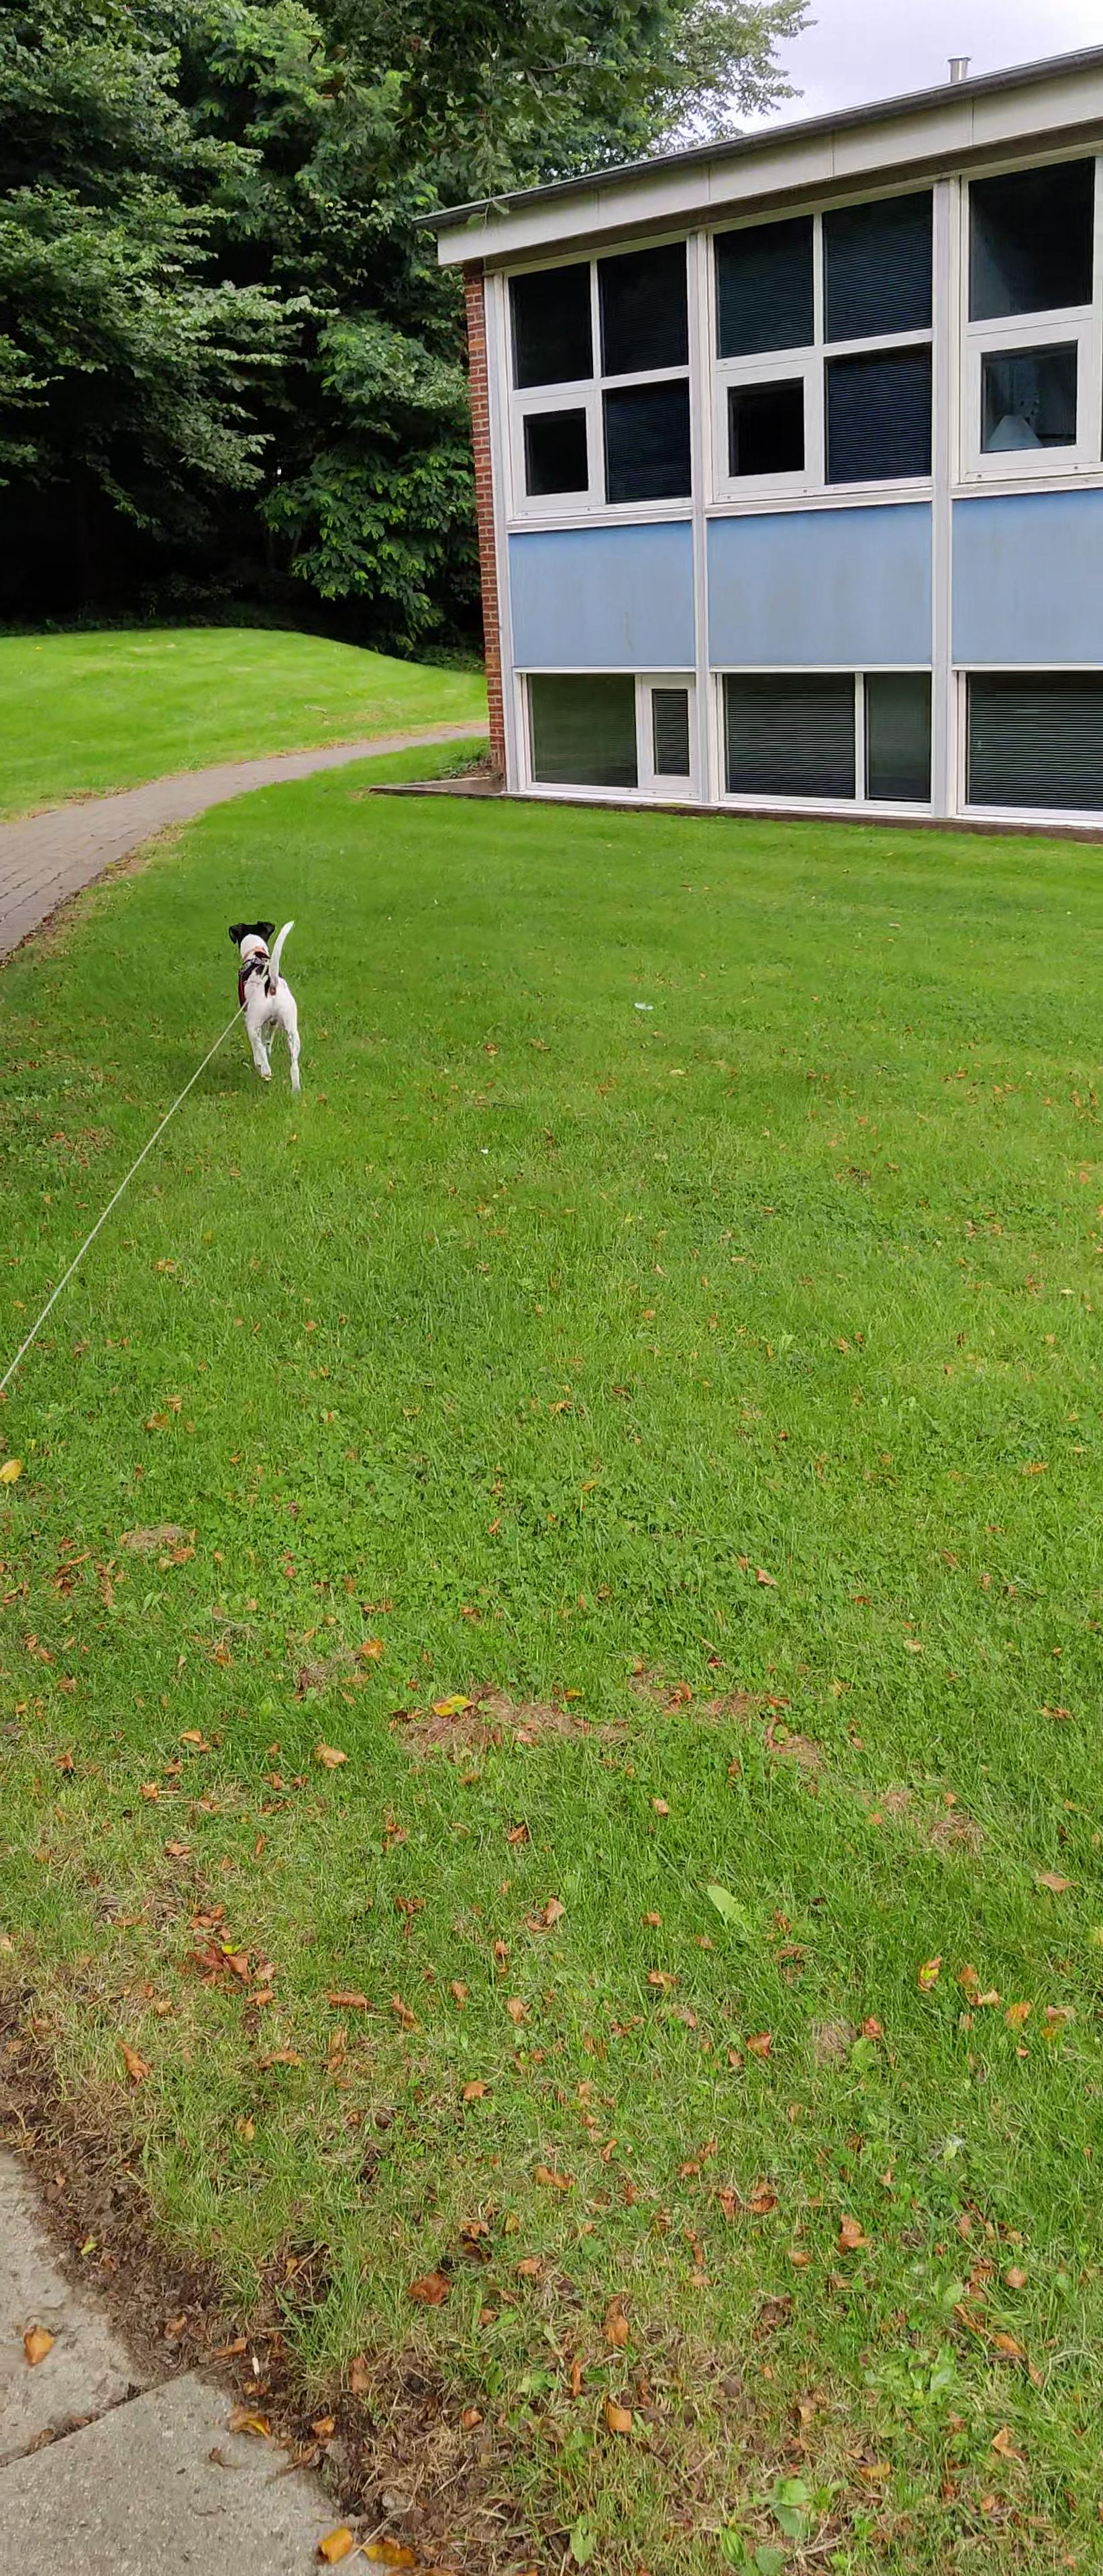Dog: (225, 915, 306, 1096)
